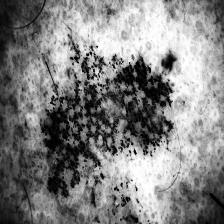Benign Marking or Mole: (38, 41, 176, 196)
